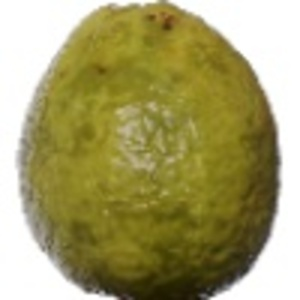goiaba: (11, 2, 286, 298)
